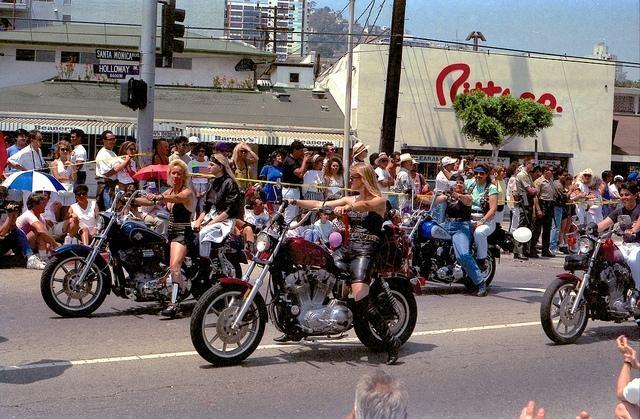motorcycle: (188, 195, 430, 366), (43, 185, 252, 317), (538, 215, 640, 341), (402, 188, 514, 290)
